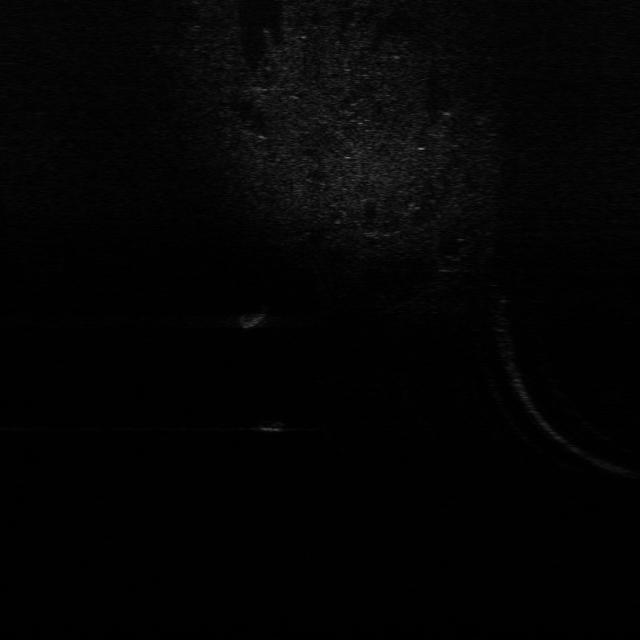cube: (254, 413, 294, 433)
square cage: (234, 305, 282, 333)
